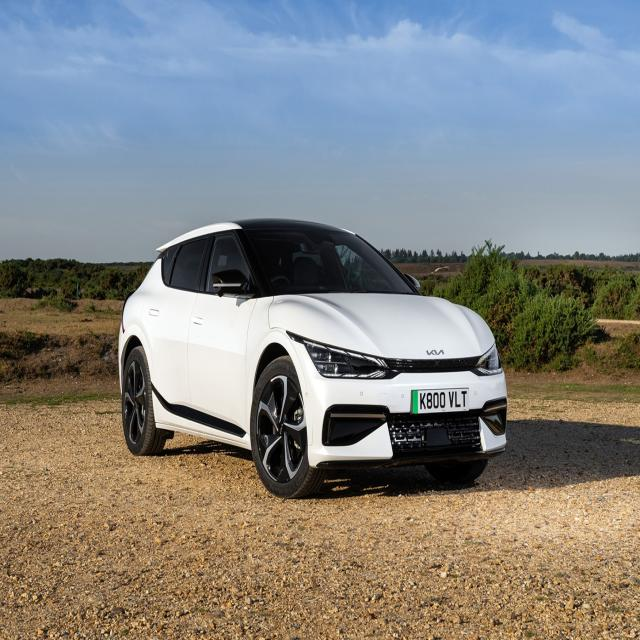car: (116, 205, 508, 503)
